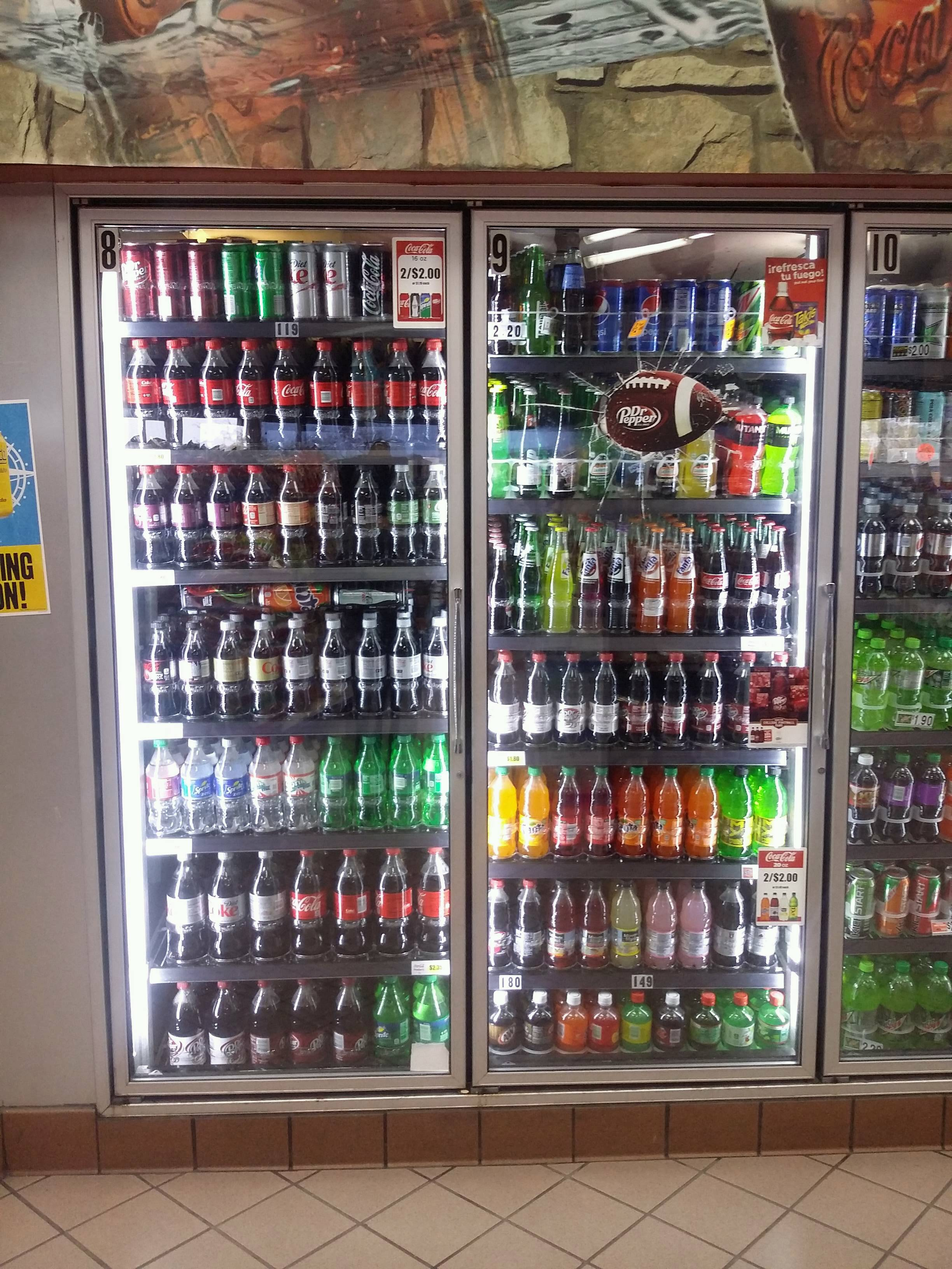Bottle: (330, 849, 370, 960), (327, 975, 372, 1071), (208, 853, 245, 966), (248, 852, 285, 963), (125, 338, 161, 451), (165, 855, 201, 968), (379, 846, 414, 957), (417, 849, 450, 965), (557, 246, 590, 359), (413, 975, 451, 1072), (543, 523, 575, 636), (306, 343, 339, 452), (285, 979, 323, 1073), (132, 466, 167, 568), (731, 396, 766, 498), (347, 345, 381, 449), (770, 397, 805, 498), (205, 466, 239, 569), (520, 239, 550, 355), (755, 764, 789, 865), (166, 981, 204, 1071), (271, 343, 303, 449), (295, 848, 325, 961), (643, 879, 680, 970), (243, 464, 275, 569), (374, 977, 410, 1070), (732, 525, 761, 640), (170, 467, 203, 568), (143, 619, 175, 723), (278, 463, 309, 570), (515, 391, 545, 501), (388, 731, 420, 834), (616, 767, 651, 861), (317, 463, 348, 569), (604, 530, 635, 636), (588, 390, 618, 499), (521, 650, 554, 749), (659, 653, 693, 749), (205, 982, 242, 1070), (247, 978, 282, 1071), (618, 653, 653, 746), (282, 735, 315, 833), (350, 463, 381, 567), (881, 957, 914, 1054), (320, 734, 352, 834), (387, 339, 416, 449), (728, 657, 763, 748), (320, 615, 350, 721), (686, 766, 719, 862), (168, 337, 196, 450), (215, 736, 247, 834), (682, 879, 715, 974), (916, 957, 950, 1049), (418, 466, 448, 570), (180, 619, 210, 723), (658, 386, 685, 501), (624, 383, 650, 502), (387, 465, 417, 568), (238, 340, 266, 450), (636, 528, 665, 634), (146, 741, 178, 837), (352, 618, 383, 717), (183, 739, 214, 837), (858, 638, 889, 736), (204, 339, 232, 447), (852, 749, 883, 846), (691, 388, 718, 499), (667, 525, 694, 636), (490, 243, 516, 357), (418, 341, 446, 446), (282, 619, 311, 720), (545, 878, 577, 968), (355, 735, 383, 837), (251, 736, 280, 834), (491, 650, 520, 748), (422, 616, 450, 717), (715, 883, 746, 974), (251, 620, 279, 720), (654, 768, 684, 861), (890, 503, 920, 596), (520, 768, 550, 861), (766, 523, 790, 639), (553, 766, 582, 861), (702, 526, 727, 636), (423, 732, 450, 833), (216, 624, 245, 718), (488, 989, 522, 1069), (516, 526, 540, 638), (587, 652, 615, 747), (694, 652, 722, 746), (723, 769, 751, 863), (613, 877, 641, 971), (918, 752, 948, 839), (393, 614, 418, 718), (558, 650, 584, 750), (860, 507, 889, 596), (490, 767, 517, 862), (515, 878, 542, 973), (750, 880, 778, 971), (886, 387, 919, 464), (893, 638, 920, 732), (488, 388, 510, 501), (580, 879, 607, 971), (485, 879, 511, 974), (553, 390, 576, 497), (527, 988, 558, 1066), (578, 525, 599, 638), (926, 638, 952, 729), (887, 753, 913, 843), (926, 505, 952, 595), (588, 764, 612, 860), (845, 869, 876, 943), (772, 650, 795, 747), (851, 965, 875, 1056), (490, 543, 513, 635), (726, 988, 758, 1054), (621, 989, 654, 1053), (560, 988, 588, 1063), (880, 868, 908, 943), (858, 386, 883, 467), (591, 989, 619, 1061), (336, 584, 410, 611), (694, 986, 723, 1054), (659, 989, 689, 1053), (761, 988, 790, 1054), (915, 861, 943, 929), (256, 583, 332, 608), (919, 391, 945, 463), (179, 585, 253, 610), (892, 290, 918, 361), (922, 285, 946, 358), (866, 285, 888, 361)
can: (184, 240, 220, 323), (665, 278, 702, 353), (593, 278, 627, 358), (120, 242, 152, 323), (253, 242, 284, 324), (289, 241, 319, 324), (155, 243, 184, 323), (324, 243, 354, 320), (632, 277, 662, 353), (224, 242, 251, 324), (358, 243, 385, 321), (738, 278, 765, 356), (705, 278, 733, 352)
